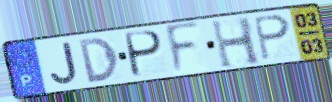D: (76, 35, 121, 85)
F: (163, 19, 202, 78)
H: (209, 15, 264, 71)
J: (49, 40, 80, 87)
P: (251, 13, 293, 63), (124, 29, 165, 80)
